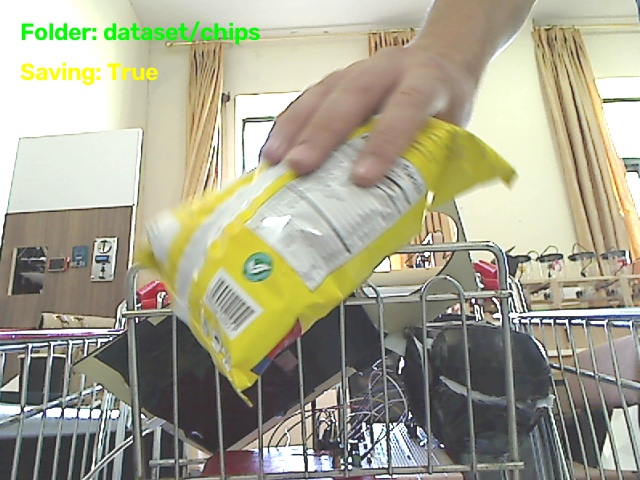chips: (138, 119, 514, 393)
